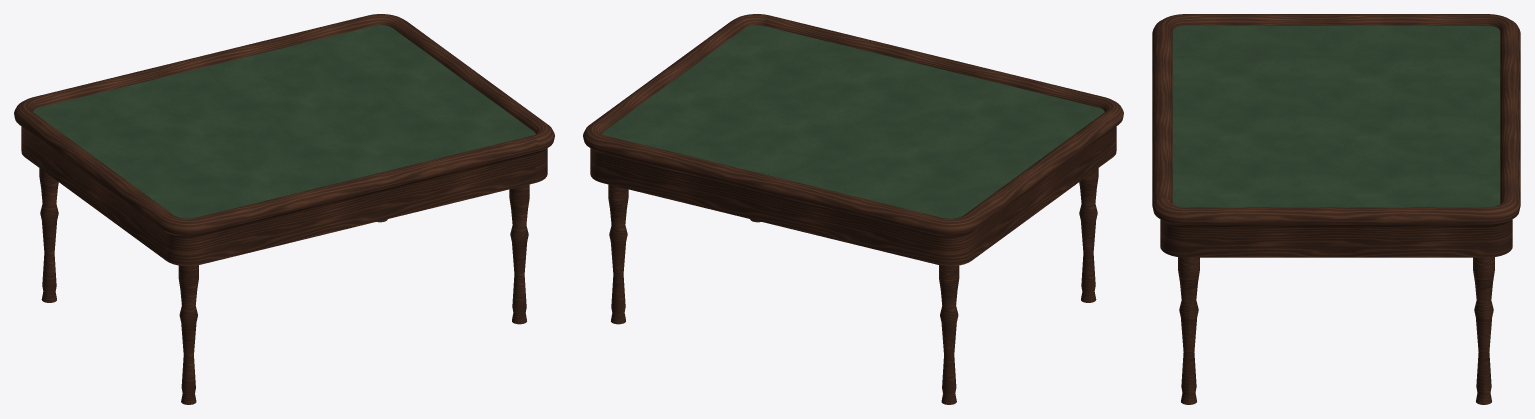
The model's file is table.glb.
The picture shows the model from 3 angles, left to right: view 1: azimuth 30°, elevation 25°; view 2: azimuth 150°, elevation 25°; view 3: azimuth 270°, elevation 25°; orthographic projection. The views are drawn at different scales.
Visible parts, largest first — view 1: Filz, Tischrand, Tischbein_2, Tischbein_3, Tischbein_0; view 2: Filz, Tischrand, Tischbein_0, Tischbein_1, Tischbein_2; view 3: Filz, Tischrand, Tischbein_1, Tischbein_3.
Part boxes in pixels (x1,y1,x2,y2): Filz: (33,25,535,218); Tischrand: (14,14,554,266); Tischbein_2: (178,265,198,404); Tischbein_3: (509,184,529,324); Tischbein_0: (39,168,58,302); Filz: (602,25,1104,218); Tischrand: (583,14,1123,266); Tischbein_0: (939,265,959,404); Tischbein_1: (608,184,628,324); Tischbein_2: (1079,168,1098,302); Filz: (1172,25,1500,207); Tischrand: (1152,14,1520,257); Tischbein_1: (1473,257,1494,404); Tischbein_3: (1178,257,1199,404).
Bounding box in the file's own units: 1.75 × 0.826 × 1.35.
2 materials, 2 textured.
